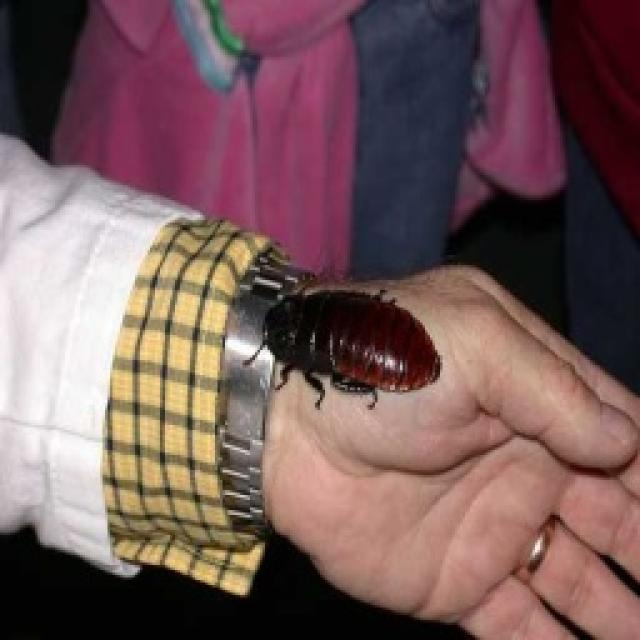cockroach: (241, 289, 446, 417)
